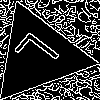L: (14, 30, 69, 80)
